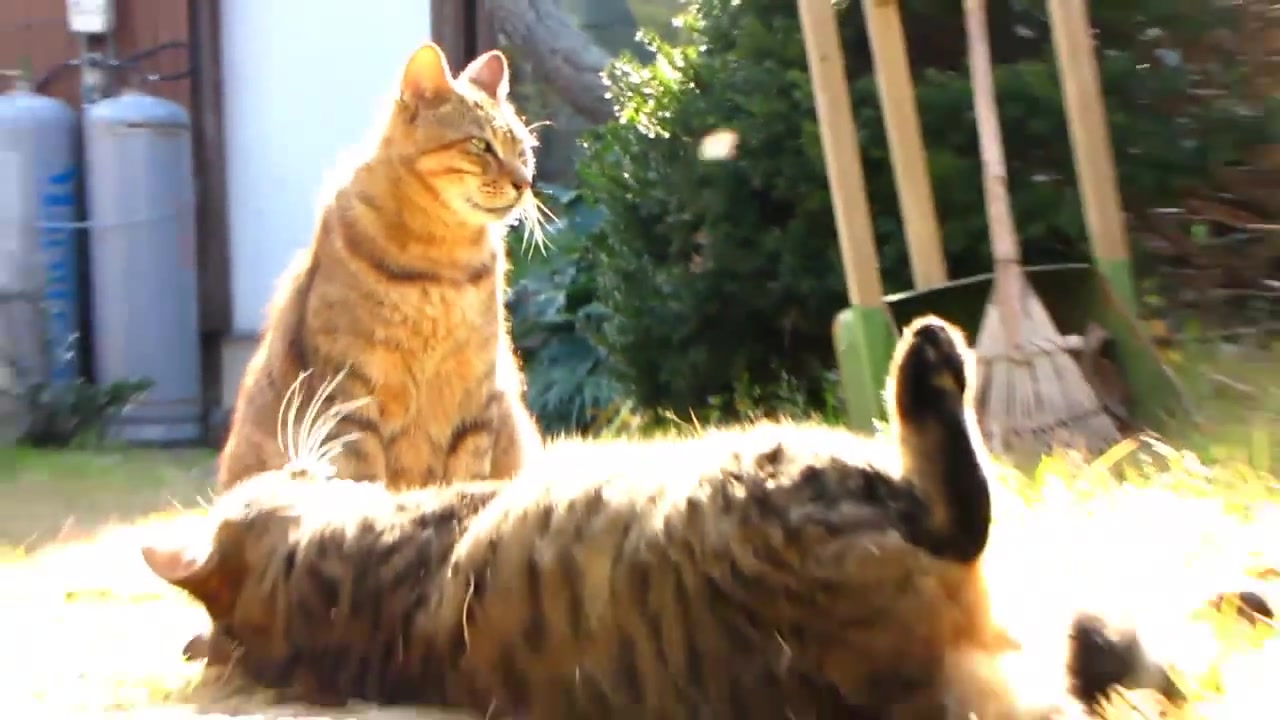cat: (143, 314, 1189, 720), (216, 46, 557, 500)
